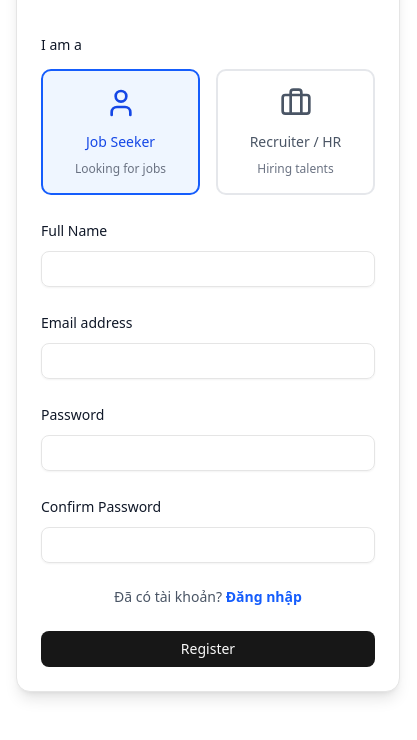
RegisterForm › Form Validation › shows validation error for short password from server
(page scrolled)
Click the button "Register": (208, 649) 41,631 -> 375,667
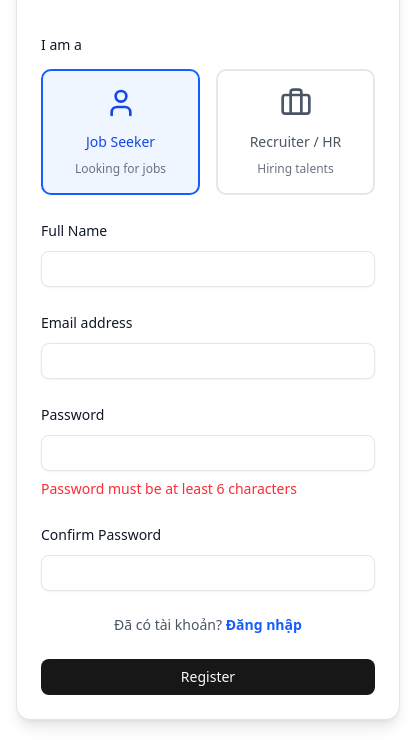
Expected: the text "Password must be at least 6 characters" is shown, 41,479 -> 297,498
